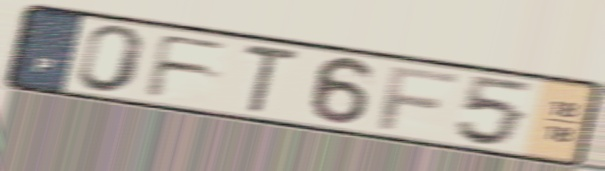0: (75, 23, 149, 95)
5: (453, 71, 540, 148)
6: (307, 53, 378, 128)
F: (141, 32, 234, 100), (375, 63, 462, 133)
T: (240, 41, 304, 116)
